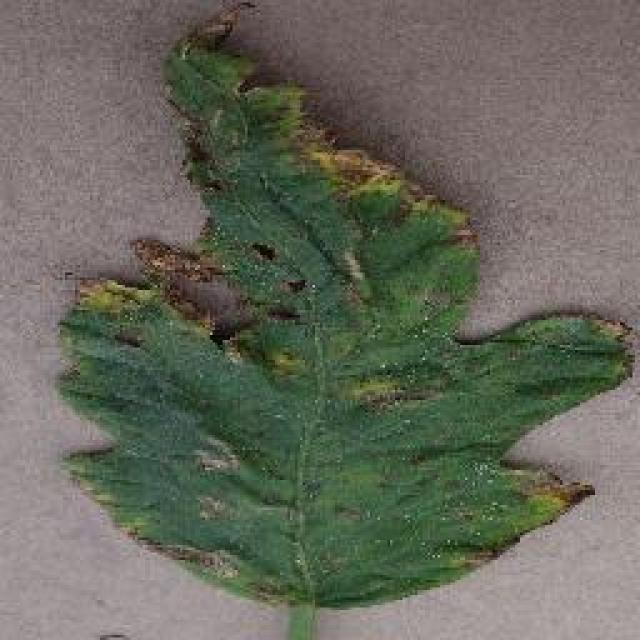Tom_Bacterial_spot: (156, 10, 422, 211), (60, 230, 326, 406), (154, 425, 358, 604), (345, 241, 476, 425), (439, 439, 590, 571)
